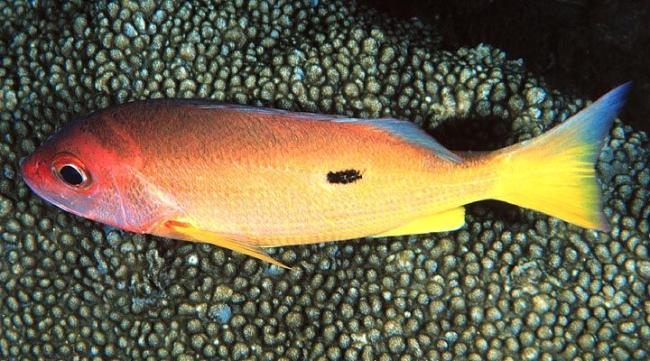fish: (20, 82, 632, 268)
